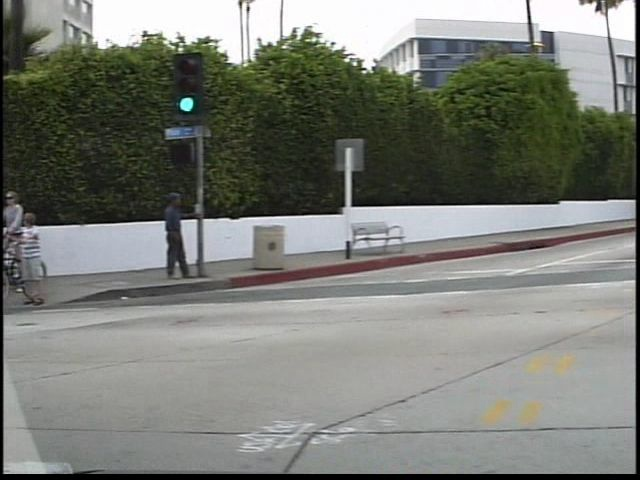person: (3, 183, 40, 307), (155, 189, 196, 289)
